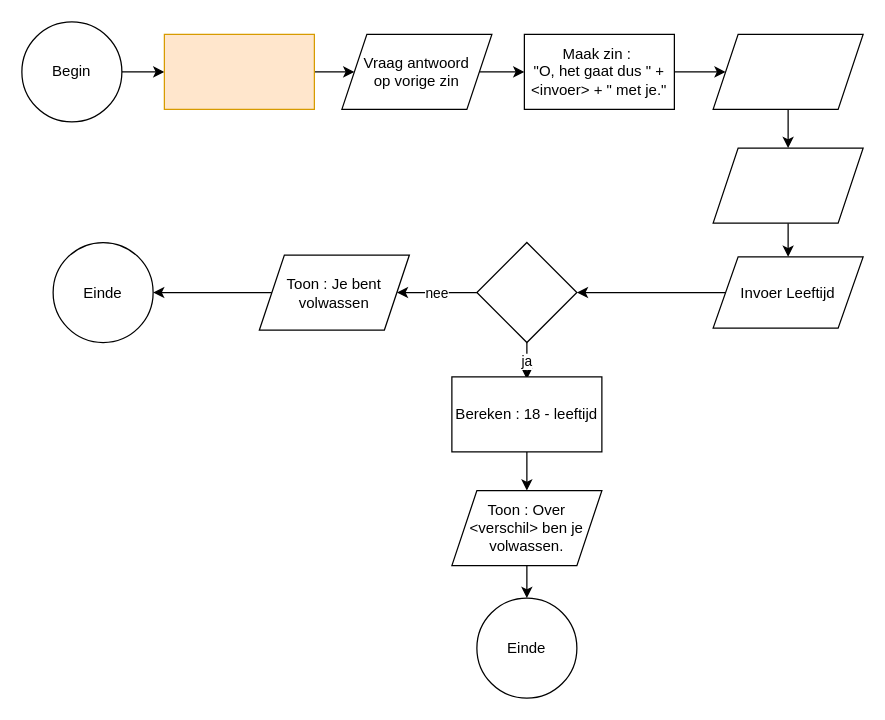
This 885x720 diagram has some shape labels left out. Each missing label, with the centre of its shape:
leeftijd < 18: the point at 526,291
Maak zin : Hallo, <naam> Hoe gaat het?: the point at 238,71
Toon : Wat is je leeftijd :: the point at 787,185
Toon vorige zin: the point at 787,71
